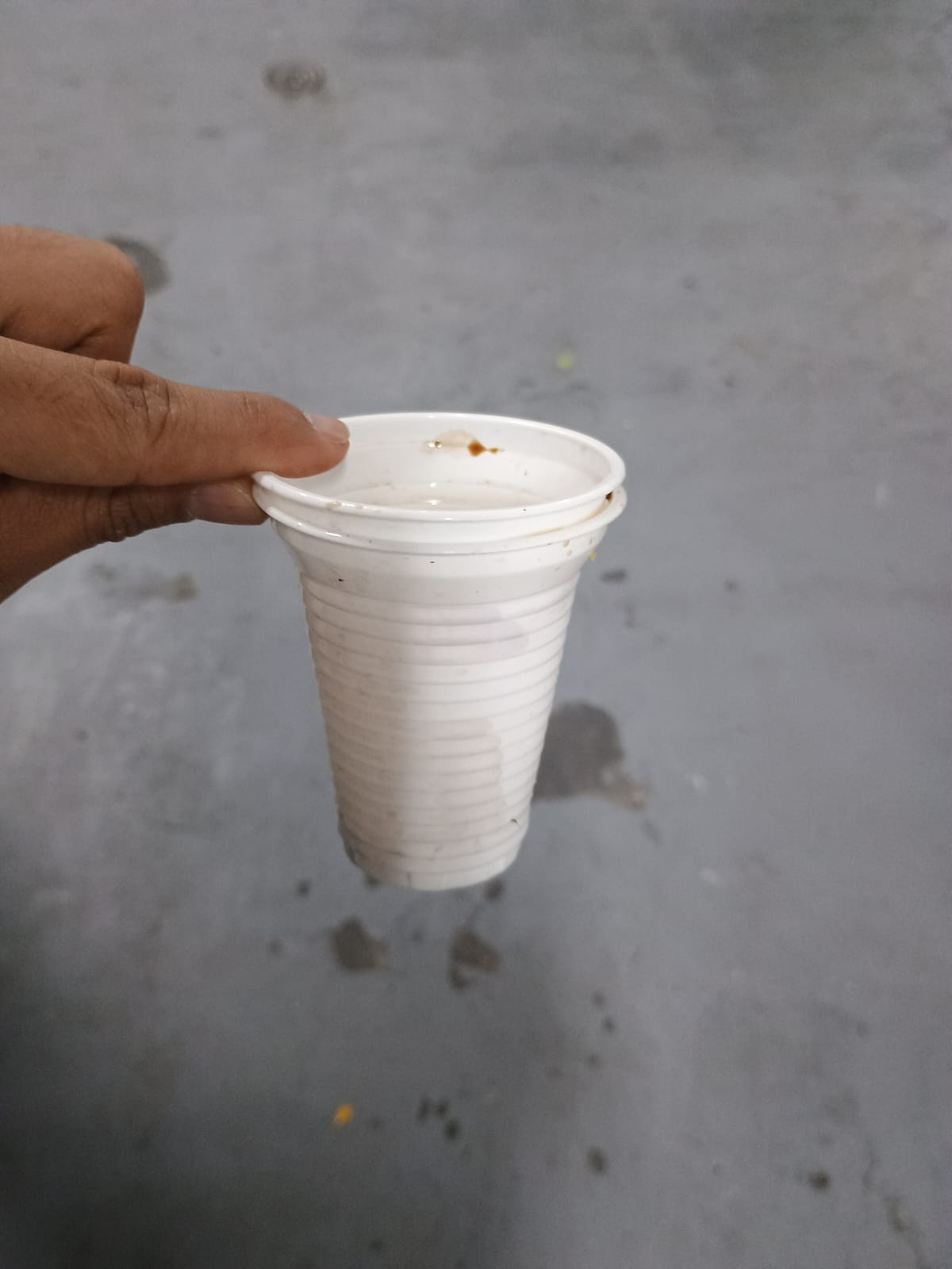Plastico: (250, 416, 630, 896)
